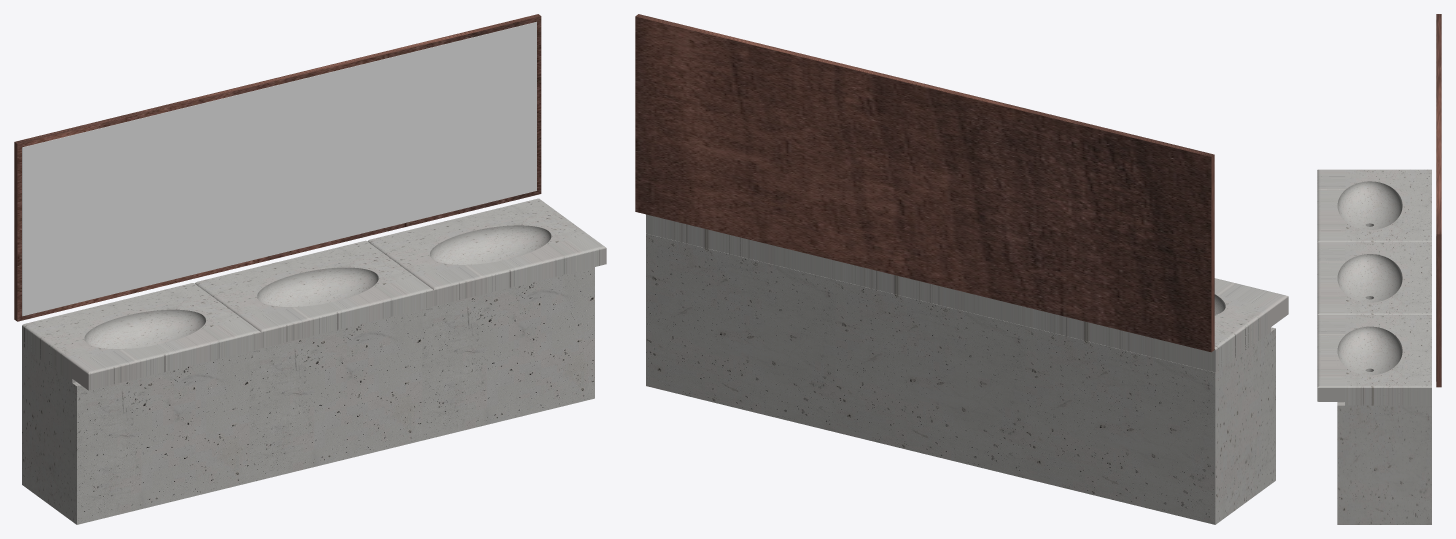
Rendered from Mirror.glb.
3 views of the same model, side by side, from view 1: azimuth 30°, elevation 25°; view 2: azimuth 150°, elevation 25°; view 3: azimuth 270°, elevation 25° (orthographic). The views are drawn at different scales.
Visible parts, largest first — view 1: Cube.004, washStand, washStand.001; view 2: washStand.001, Cube.004; view 3: Cube.004, washStand.001, washStand.
Part boxes in pixels (left/top/right/bottom): Cube.004: left=22, top=198, right=606, bottom=524; washStand: left=22, top=22, right=536, bottom=316; washStand.001: left=14, top=14, right=541, bottom=321; washStand.001: left=635, top=14, right=1214, bottom=352; Cube.004: left=646, top=214, right=1288, bottom=524; Cube.004: left=1317, top=169, right=1431, bottom=524; washStand.001: left=1436, top=14, right=1441, bottom=387; washStand: left=1436, top=20, right=1436, bottom=381.
Bounding box in the file's own units: 17.46 × 10.8 × 4.17.
Materials: 3 (2 with a texture image).
